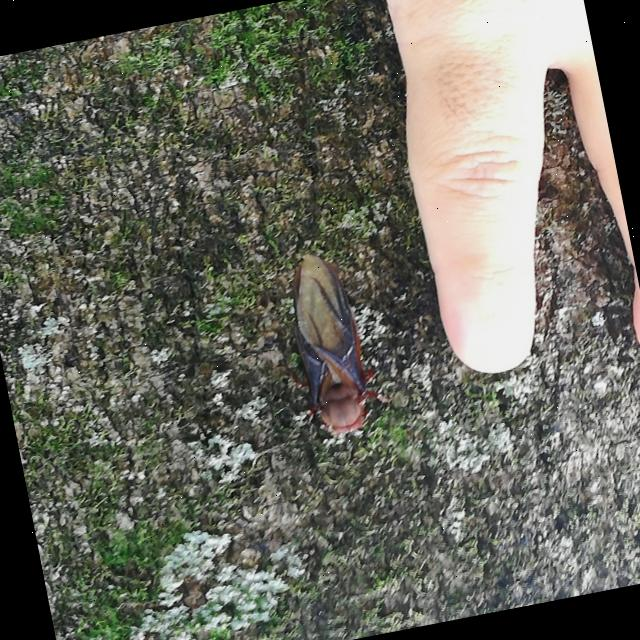Alive-Female-Alate: (254, 244, 398, 446)
